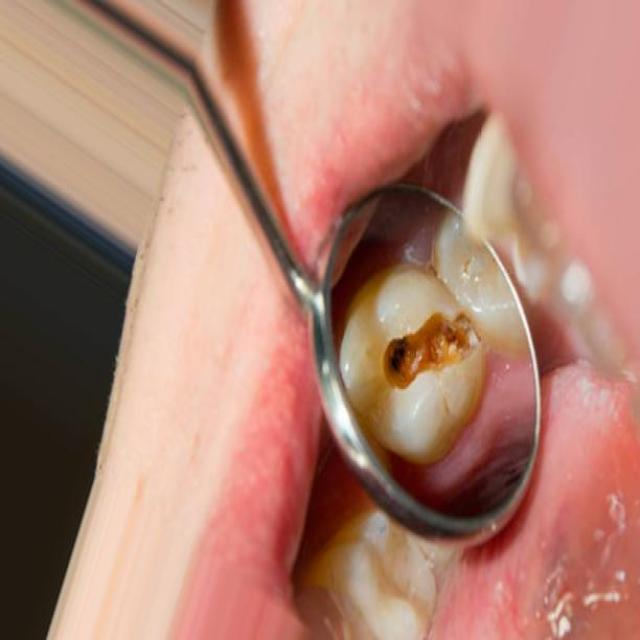caries: (371, 289, 488, 408)
